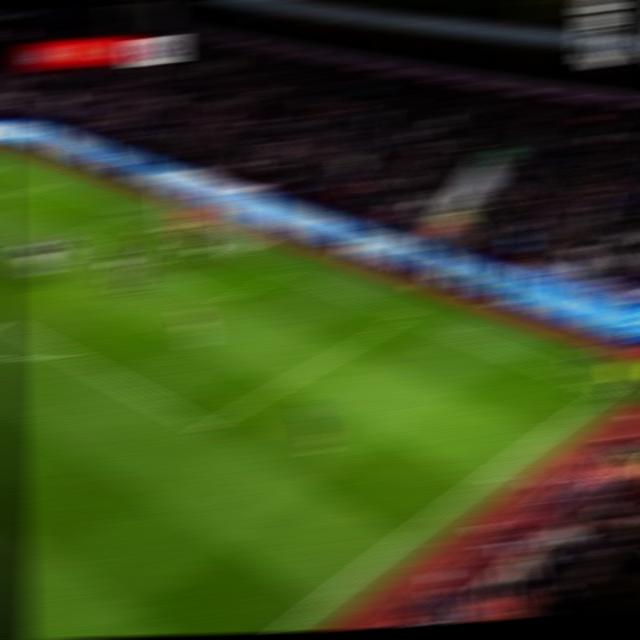bigarea_bottom_inner: (189, 413, 223, 442)
bigarea_bottom_outter: (390, 306, 421, 327)
bigarea_top_outter: (37, 177, 61, 190)
bottom_arc_area_intersection: (51, 342, 84, 367)
smallarea_bottom_inner: (214, 288, 243, 308)
smallarea_bottom_outter: (271, 262, 300, 279)
smallarea_top_inner: (56, 225, 83, 241)
smallarea_top_outter: (114, 205, 139, 219)
